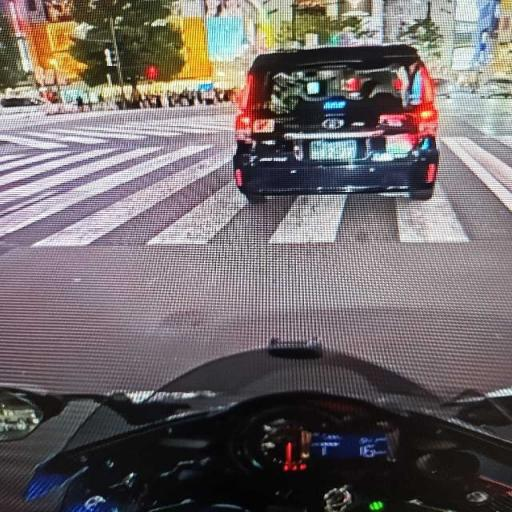car: (234, 46, 438, 201), (0, 97, 43, 114), (478, 79, 511, 98), (203, 88, 216, 105)
lane: (34, 156, 231, 246), (0, 154, 174, 237), (0, 147, 159, 204), (148, 182, 247, 245), (444, 137, 511, 210), (0, 149, 114, 186), (396, 185, 468, 243), (269, 195, 346, 243), (0, 191, 53, 224), (0, 152, 68, 171), (48, 128, 145, 140), (0, 133, 66, 149), (25, 133, 106, 144), (109, 127, 180, 137), (0, 153, 27, 163), (496, 136, 511, 148)
person: (76, 96, 83, 112), (98, 93, 104, 109), (156, 95, 162, 108), (145, 95, 151, 108)
